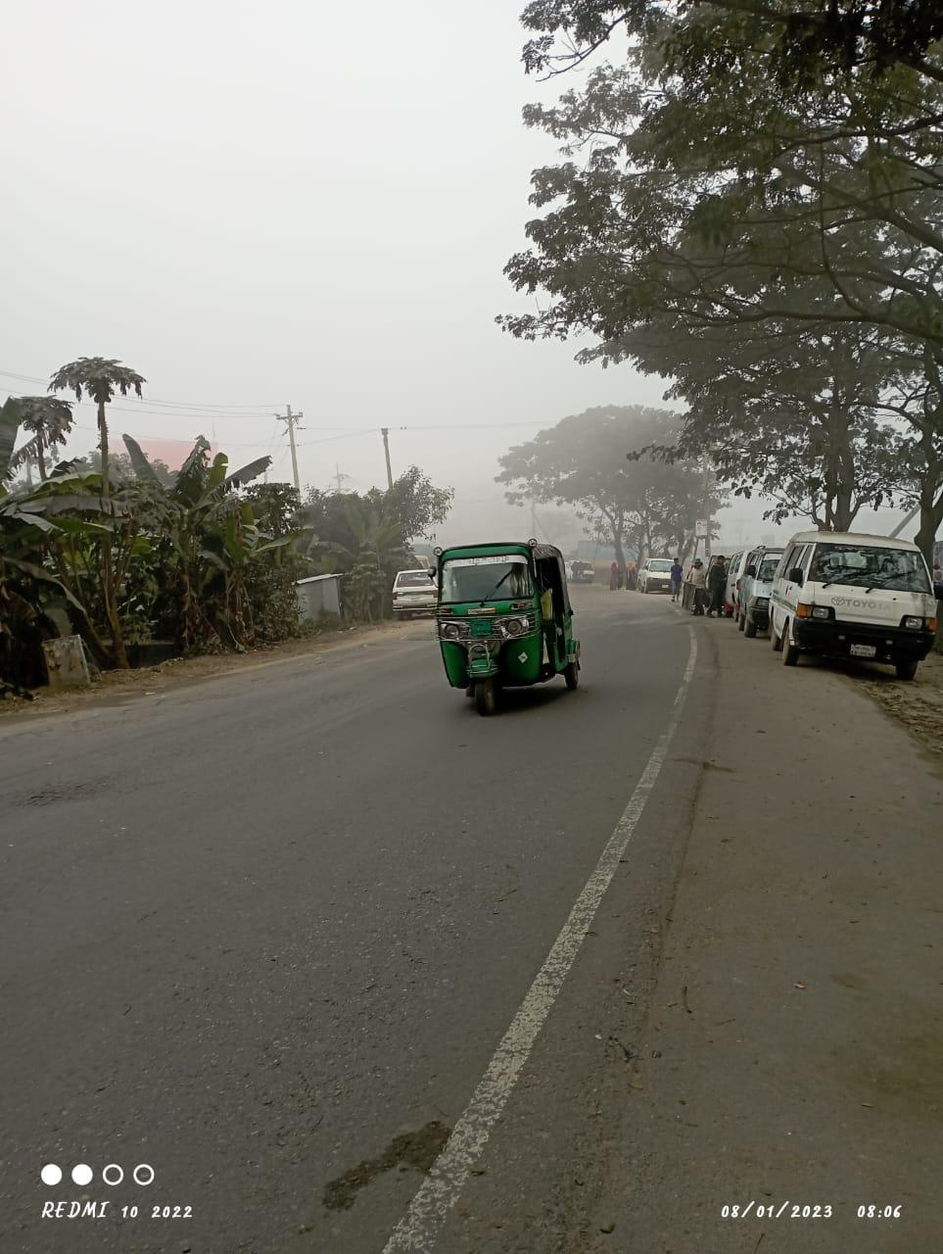Car: (762, 525, 943, 679), (388, 561, 444, 618), (631, 550, 686, 601)
